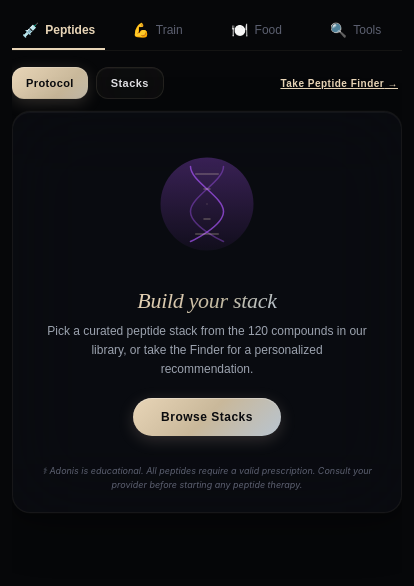
it: BodyView › switching to Train renders WorkoutView content
The image size is (414, 586).
What coordinates should you click on to do the following:
click the button "💪 Train"
I would click on:
 (158, 31)
Its box is [111,12,204,50].
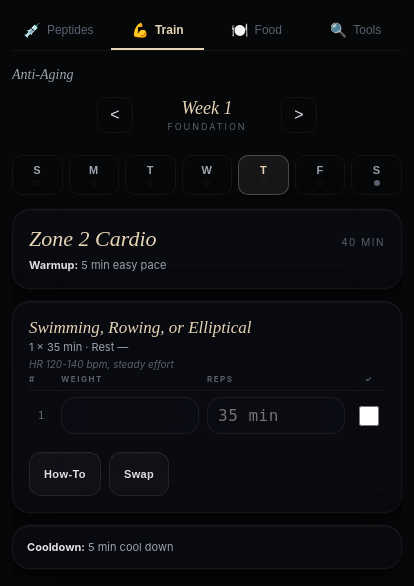
Expected: the text "Week 1" is shown, [182,98,232,118]
